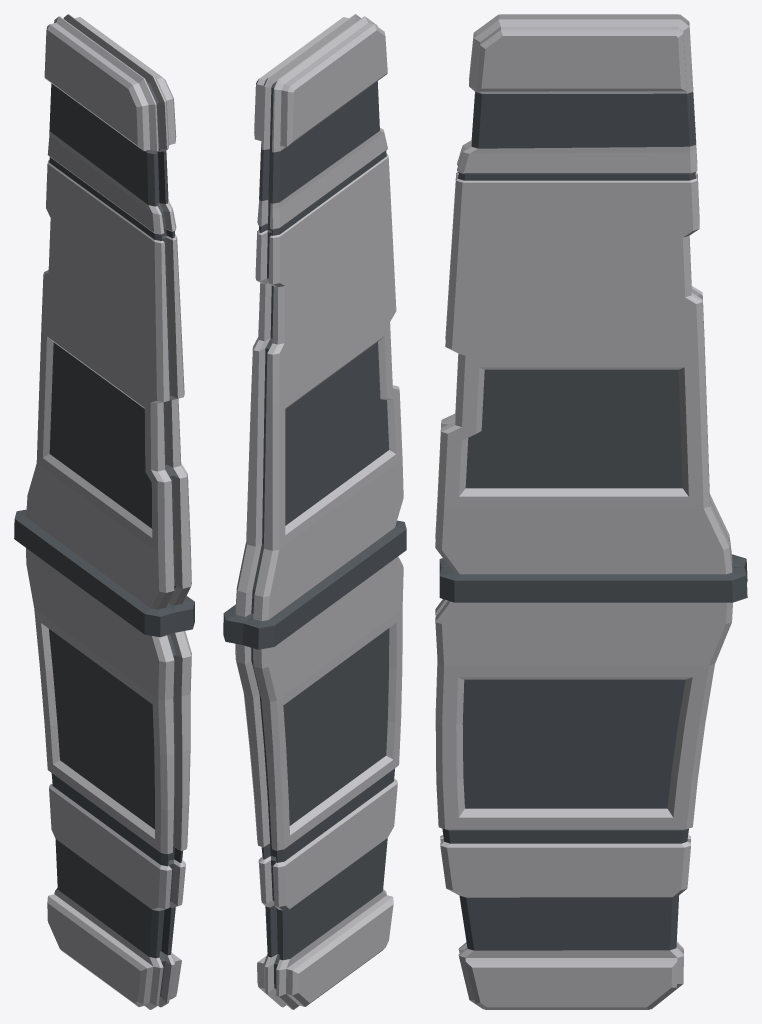
Rendered from Fighter_05_Wing_RIght.fbx.
3 renders of one model, left to right at view 1: azimuth 30°, elevation 25°; view 2: azimuth 150°, elevation 25°; view 3: azimuth 270°, elevation 25°, orthographic. The views are drawn at different scales.
Parts seen in each view (by area): view 1: Fighter_05_Wing_RIght; view 2: Fighter_05_Wing_RIght; view 3: Fighter_05_Wing_RIght.
Part boxes in pixels (bbox=[...]): Fighter_05_Wing_RIght: bbox=[14, 14, 194, 1009]; Fighter_05_Wing_RIght: bbox=[223, 14, 406, 1009]; Fighter_05_Wing_RIght: bbox=[435, 14, 747, 1009].
Bounding box in the file's own units: 103 × 1811 × 518.
Materials: 1 (1 with a texture image).
